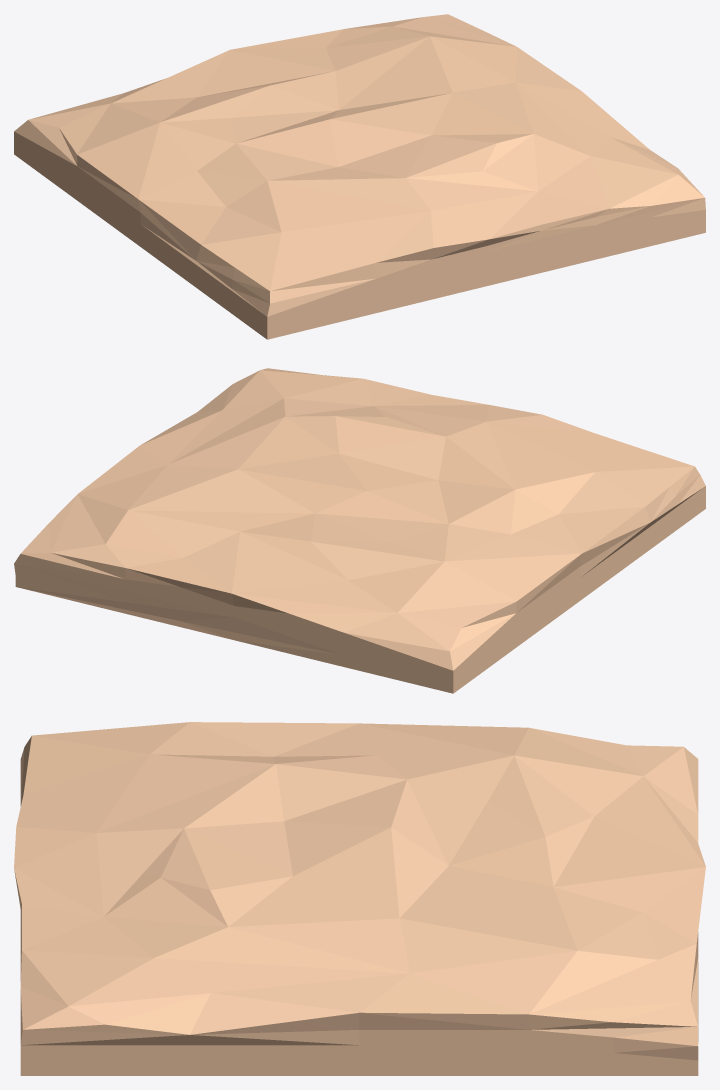
File: tile_desert 1.fbx
The picture shows the model from 3 angles, top to bottom: view 1: azimuth 30°, elevation 25°; view 2: azimuth 150°, elevation 25°; view 3: azimuth 270°, elevation 25°; orthographic projection. The views are drawn at different scales.
Visible parts, largest first — view 1: Cube; view 2: Cube; view 3: Cube.
Part boxes in pixels (x1,y1,x2,y2): Cube: (14, 14, 705, 339); Cube: (14, 368, 705, 693); Cube: (14, 722, 705, 1075).
Bounding box in the file's own units: 104 × 15.56 × 102.
